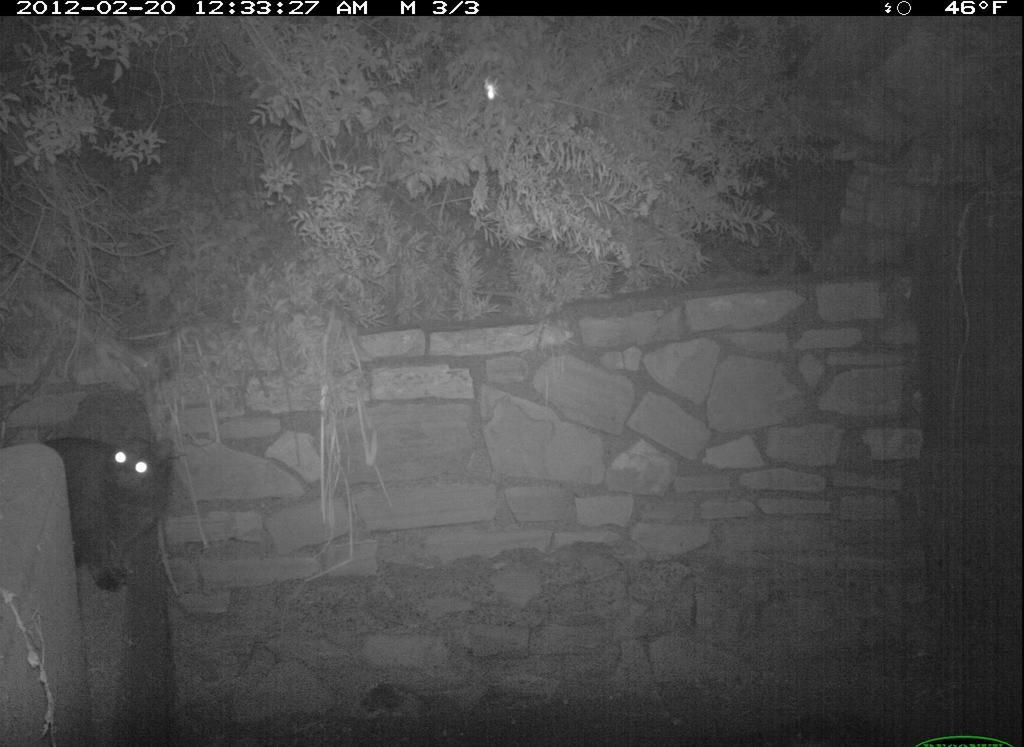cat: (39, 404, 189, 607)
